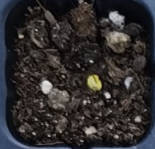pepper seed: (35, 27, 138, 120)
